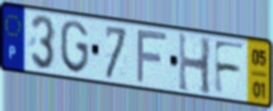3: (26, 14, 59, 72)
7: (104, 24, 129, 81)
F: (212, 38, 248, 97), (135, 29, 170, 85)
G: (58, 19, 91, 76)
H: (177, 30, 213, 98)
